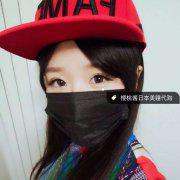OK: (41, 59, 129, 147)
